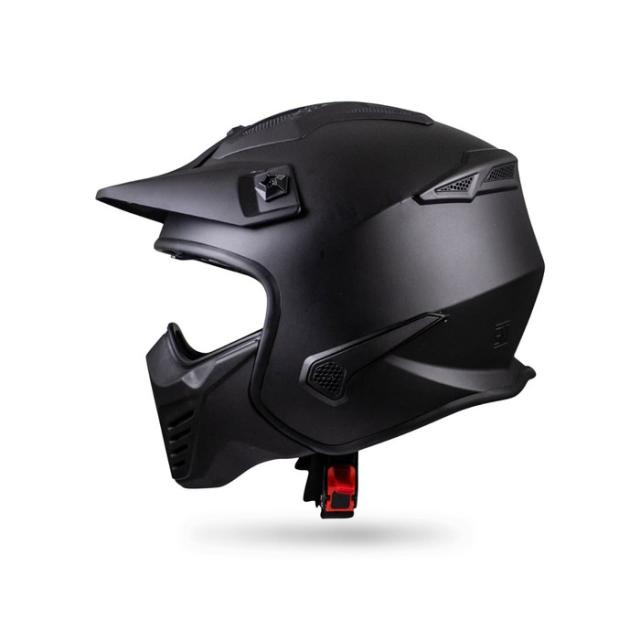Helm: (91, 96, 543, 490)
